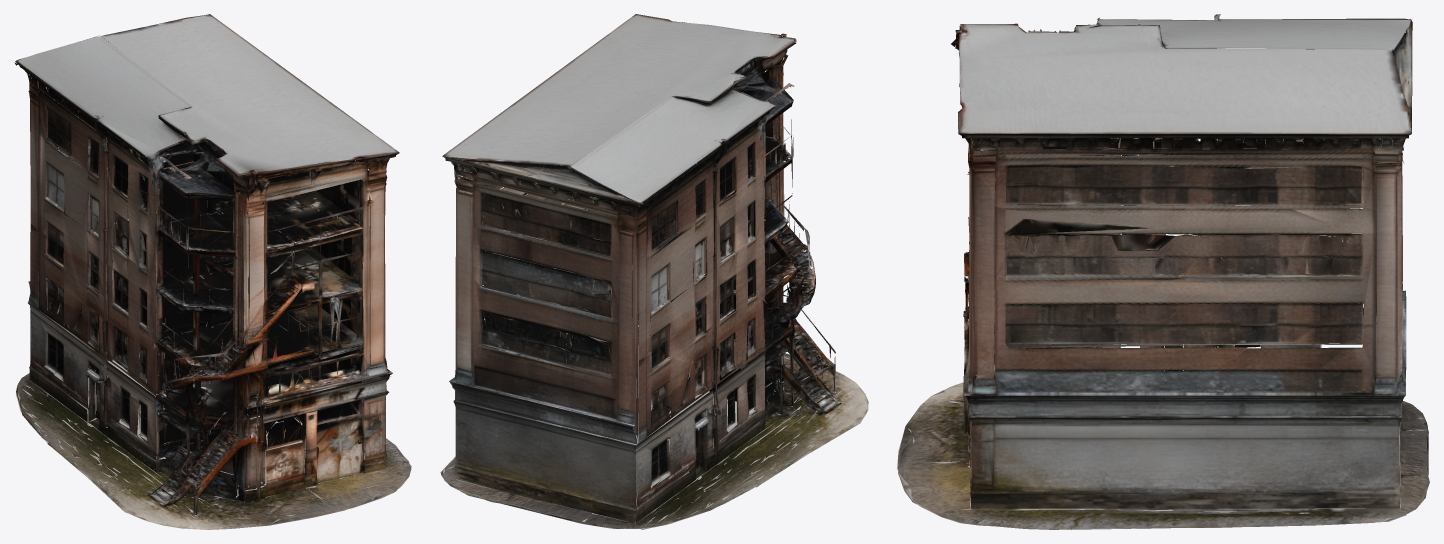
Rendered from house_abandoned_02.glb.
3 views of the same model, side by side, from view 1: azimuth 30°, elevation 25°; view 2: azimuth 150°, elevation 25°; view 3: azimuth 270°, elevation 25° (orthographic). The views are drawn at different scales.
Visible parts, largest first — view 1: material; view 2: material; view 3: material.
Boxes of the visible parts, bbox=[...] form: material: bbox=[14, 14, 411, 529]; material: bbox=[440, 14, 868, 529]; material: bbox=[897, 14, 1429, 529].
Bounding box in the file's own units: 10.14 × 11.99 × 14.37.
1 material, 1 textured.
